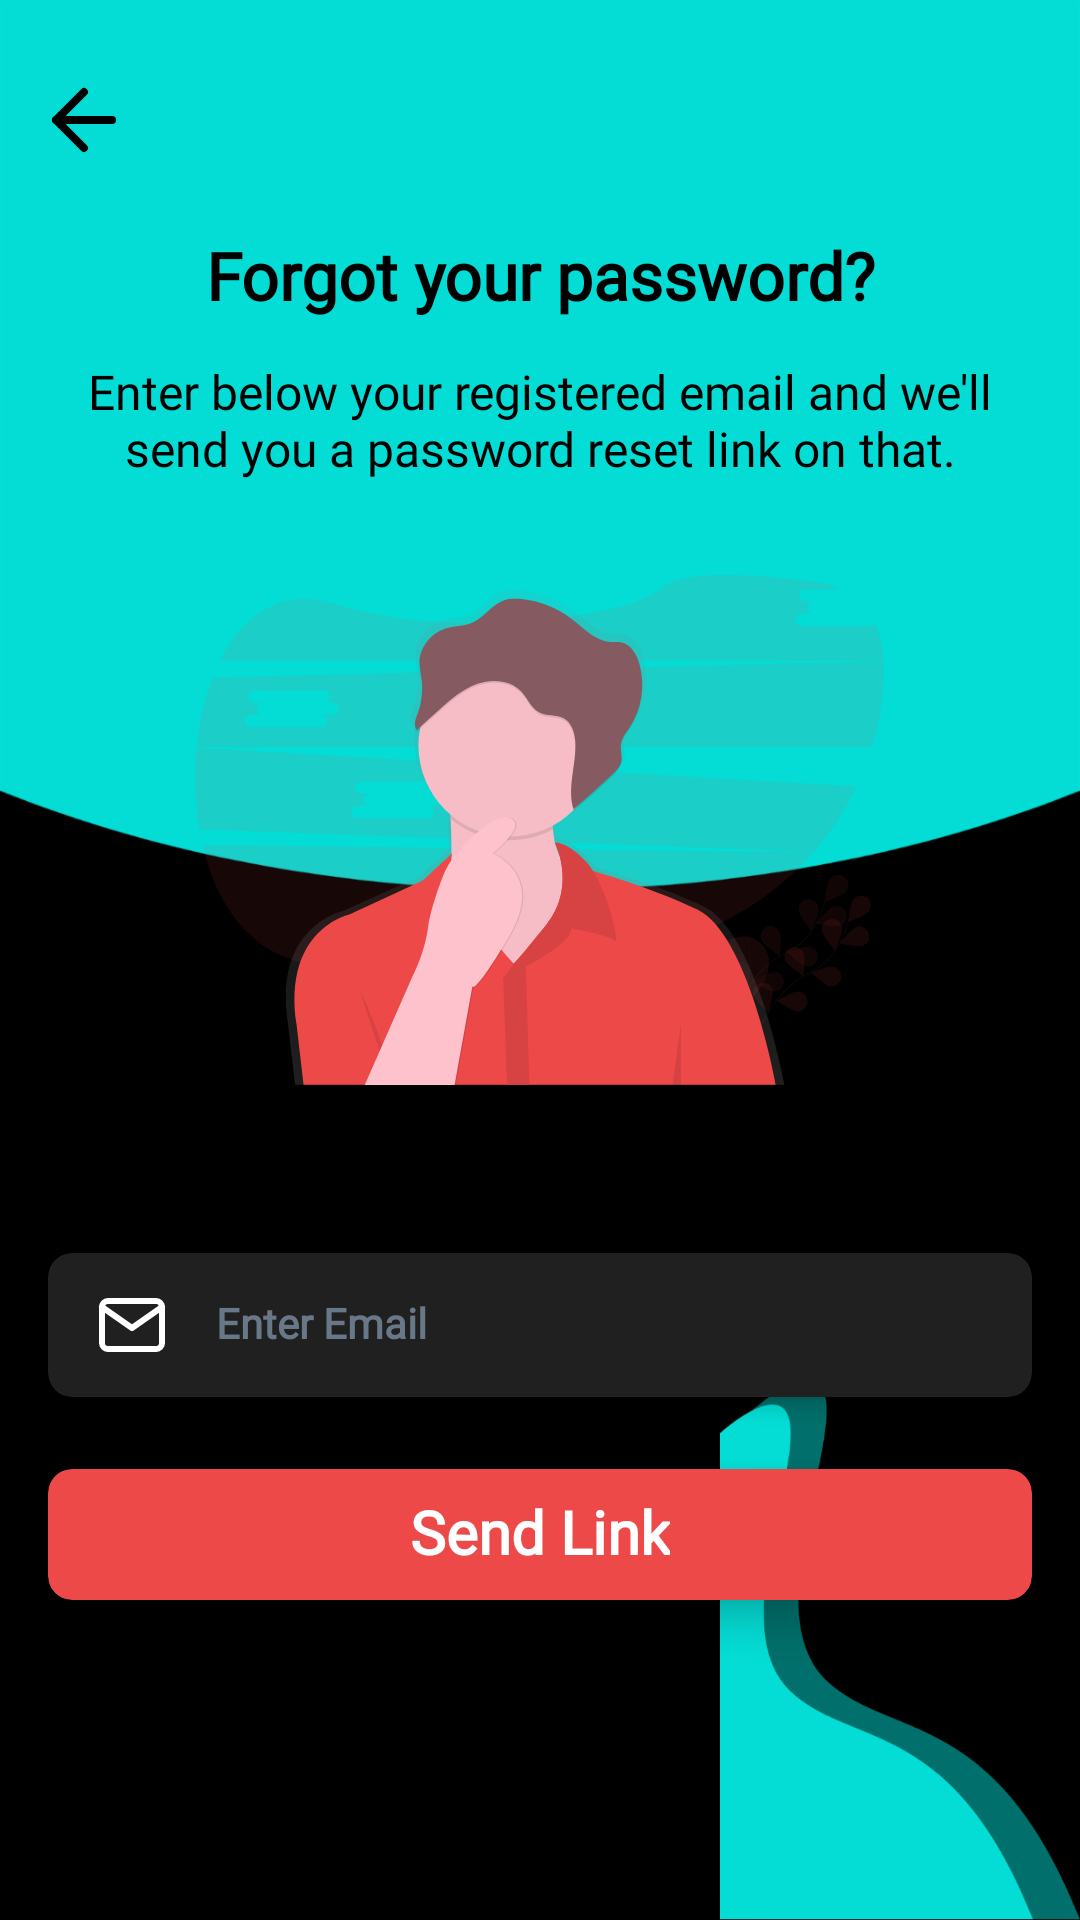

Icon click points for this 1080px x 1920px phone screenshot, format (x,y):
arrow back: (83,119)
